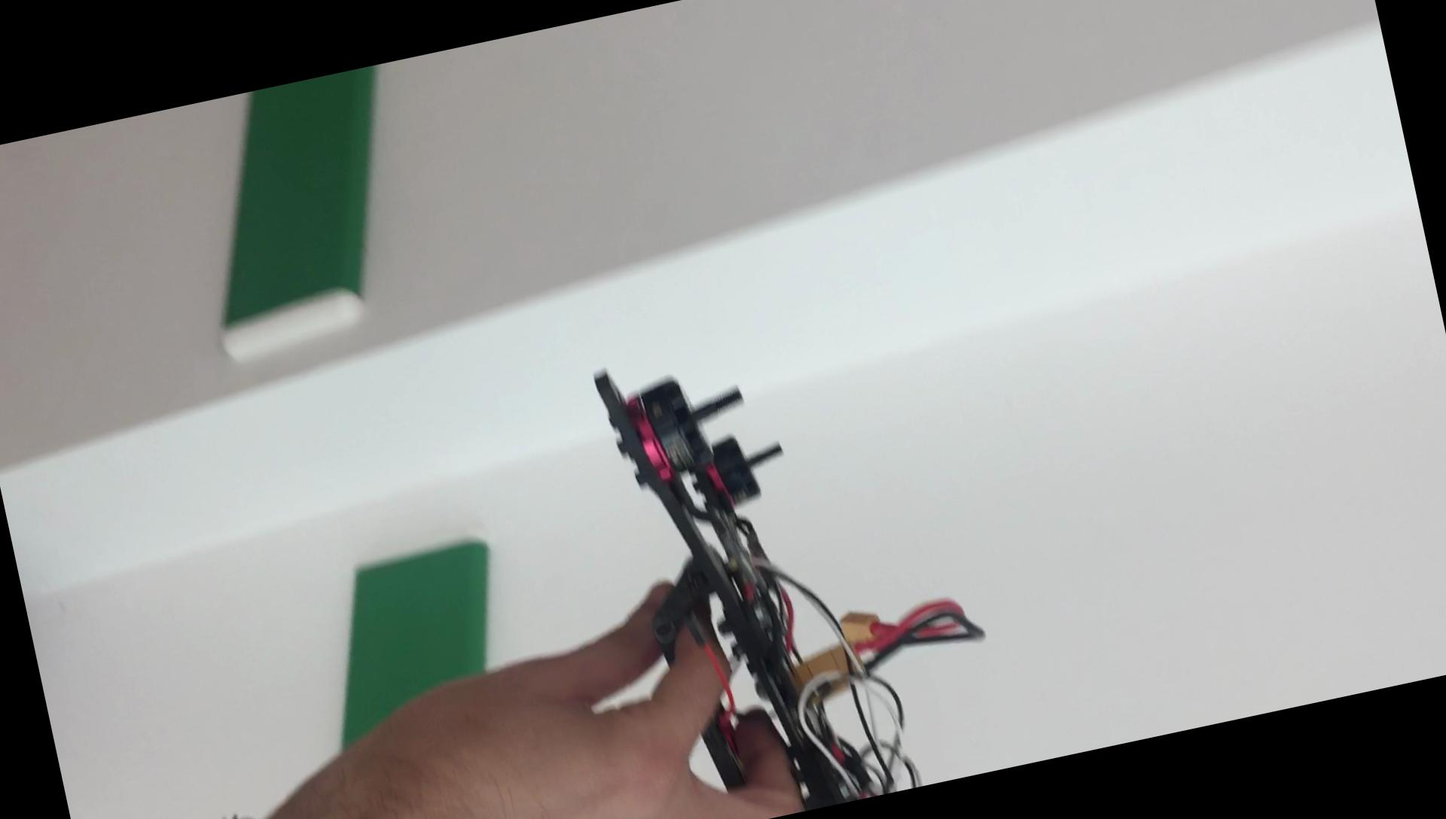drone: (559, 291, 962, 819)
